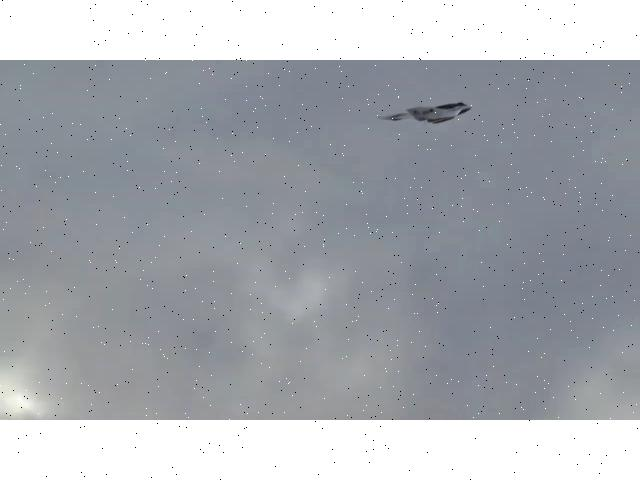Anti-Drone: (376, 101, 472, 125)
